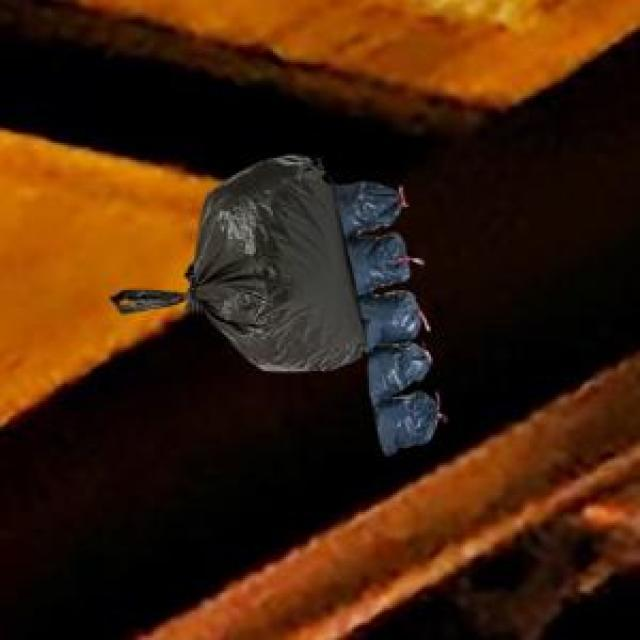Vinyl: (188, 156, 440, 456), (112, 290, 188, 312)
